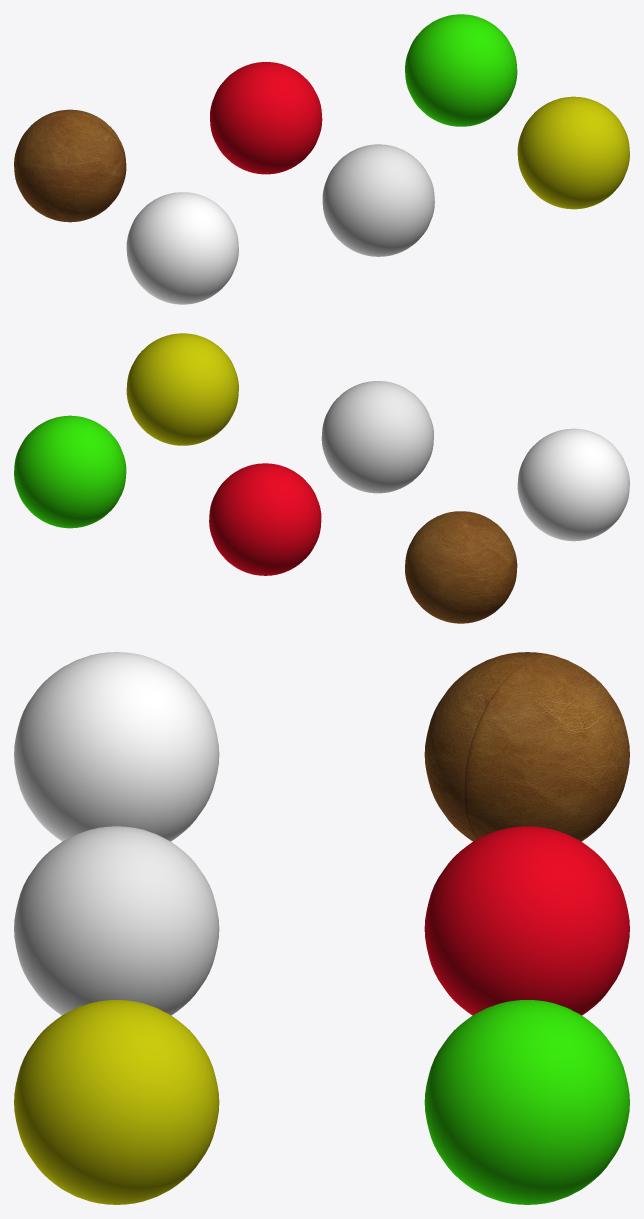
File: PBR.glb
The picture shows the model from 3 angles, top to bottom: view 1: azimuth 30°, elevation 25°; view 2: azimuth 150°, elevation 25°; view 3: azimuth 270°, elevation 25°; orthographic projection. The views are drawn at different scales.
Parts seen in each view (by area): view 1: Sphere.002, Sphere, Sphere.001, Sphere.004, Sphere.003, Sphere.005; view 2: Sphere.003, Sphere.005, Sphere.001, Sphere.004, Sphere, Sphere.002; view 3: Sphere.001, Sphere.004, Sphere.002, Sphere.005, Sphere, Sphere.003.
Boxes of the visible parts, x1=… form: Sphere.002: x1=126, y1=192, x2=238, y2=304; Sphere: x1=322, y1=144, x2=434, y2=256; Sphere.001: x1=517, y1=96, x2=629, y2=209; Sphere.004: x1=405, y1=14, x2=517, y2=126; Sphere.003: x1=210, y1=62, x2=322, y2=174; Sphere.005: x1=14, y1=109, x2=126, y2=222; Sphere.003: x1=209, y1=463, x2=321, y2=575; Sphere.005: x1=405, y1=511, x2=517, y2=623; Sphere.001: x1=126, y1=333, x2=238, y2=445; Sphere.004: x1=14, y1=415, x2=126, y2=528; Sphere: x1=321, y1=381, x2=433, y2=493; Sphere.002: x1=517, y1=428, x2=629, y2=541; Sphere.001: x1=14, y1=1000, x2=219, y2=1204; Sphere.004: x1=424, y1=1000, x2=629, y2=1204; Sphere.002: x1=14, y1=652, x2=219, y2=841; Sphere.005: x1=424, y1=652, x2=629, y2=841; Sphere: x1=14, y1=826, x2=219, y2=1015; Sphere.003: x1=424, y1=826, x2=629, y2=1015.
Bounding box in the file's own units: 5.01 × 1 × 3.
6 materials, 1 textured.
